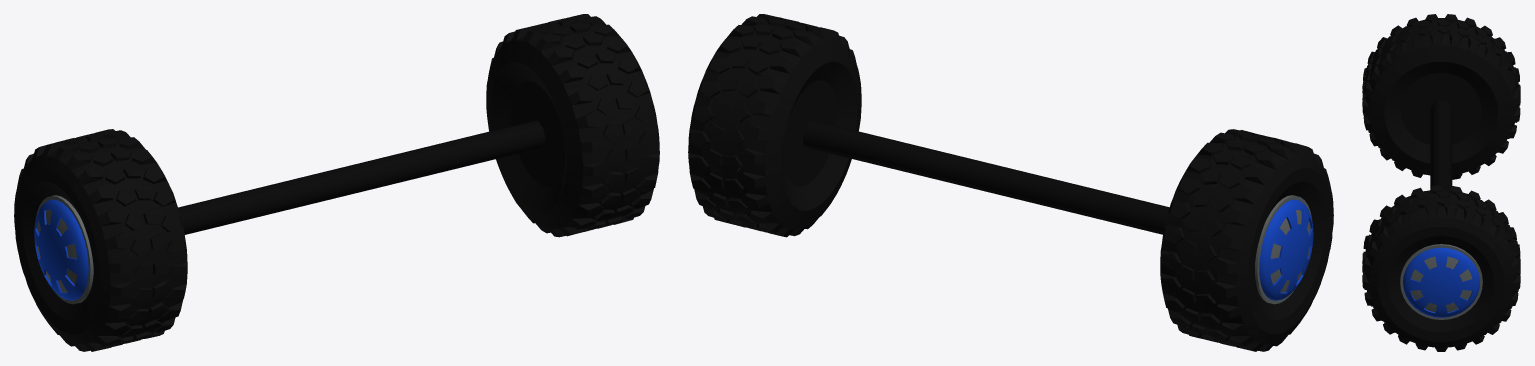
The model's file is TruckBackWheel_2.fbx.
3 renders of one model, left to right at view 1: azimuth 30°, elevation 25°; view 2: azimuth 150°, elevation 25°; view 3: azimuth 270°, elevation 25°, orthographic. The views are drawn at different scales.
Visible parts, largest first — view 1: TruckBackWheel; view 2: TruckBackWheel; view 3: TruckBackWheel.
Boxes of the visible parts, <box> form: TruckBackWheel: <box>14,14,659,351</box>; TruckBackWheel: <box>688,14,1333,351</box>; TruckBackWheel: <box>1362,14,1520,351</box>.
Size of the model in its own units: 391 by 126 by 126.
